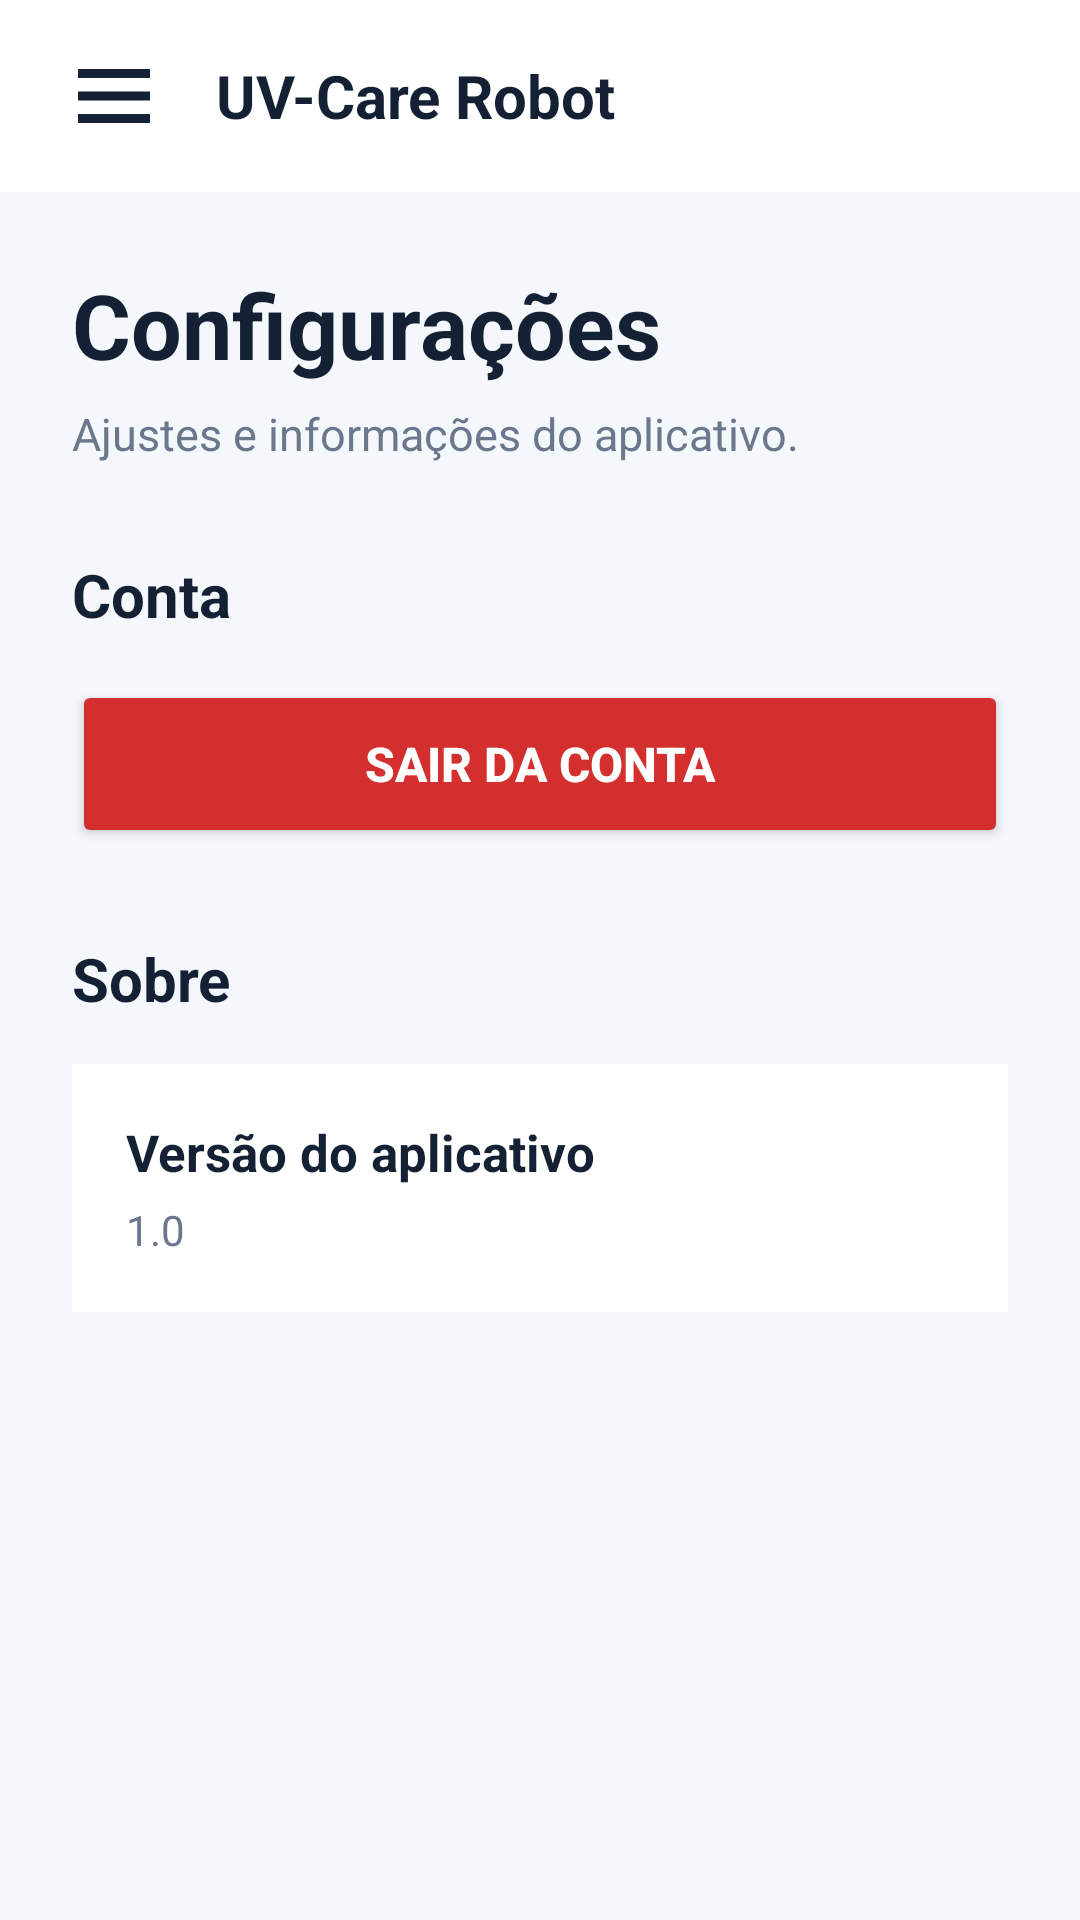

Screen size 1080x1920. Icon name, then its center in pixels as [x,y]:
Abrir menu: [114,96]
